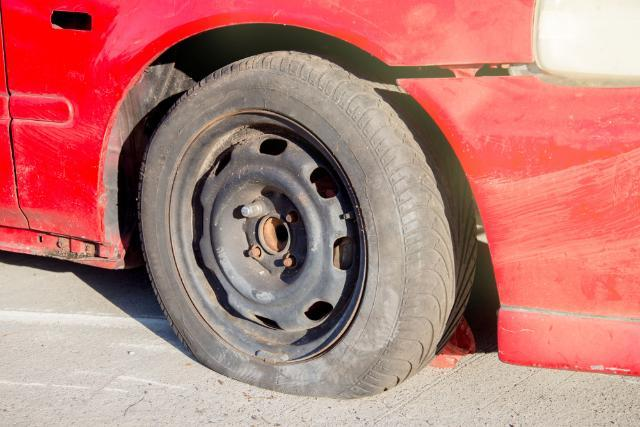tire flat: (139, 48, 480, 399)
